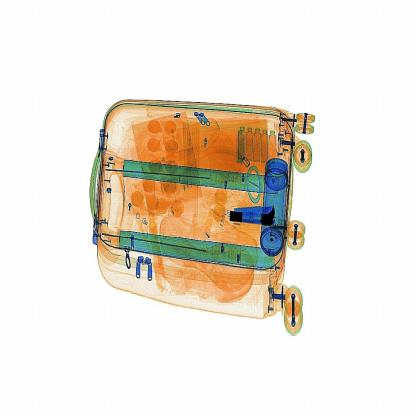knife: (227, 199, 281, 232)
